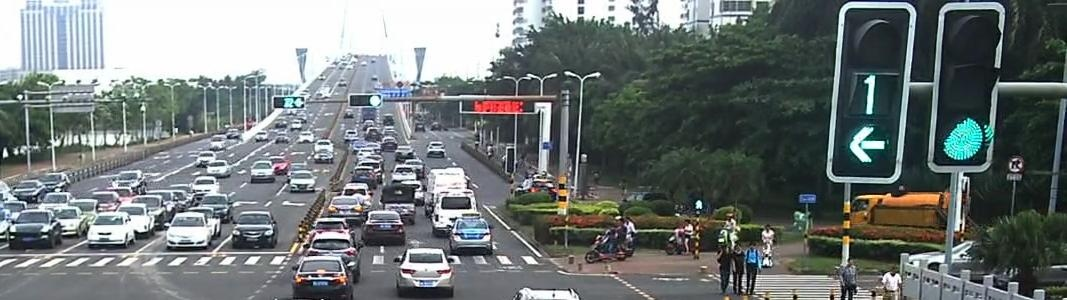green: (938, 116, 988, 163), (369, 93, 380, 108)
greenleft: (846, 123, 891, 165), (292, 96, 303, 110)
greenpeople: (693, 196, 704, 212)
redtime: (848, 76, 891, 117), (284, 96, 293, 110)
